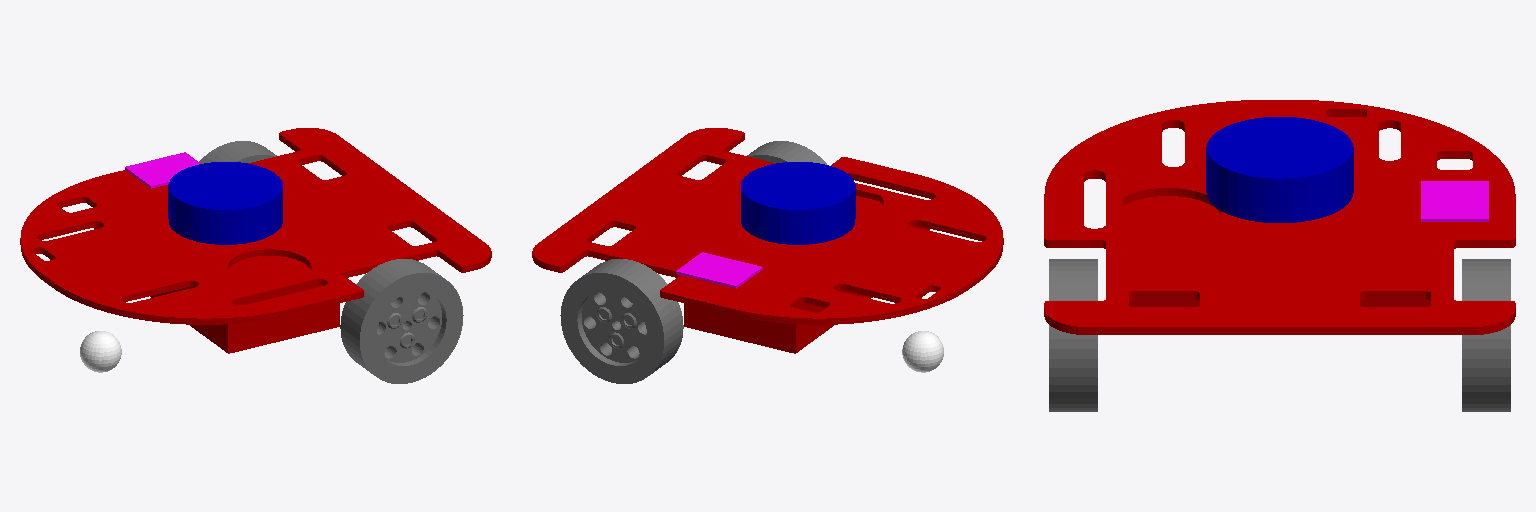
robot.urdf — caretta:
<?xml version="1.0" ?>
<robot name="caretta" xmlns:xacro="http://ros.org/wiki/xacro">

  <material name="blue">
    <color rgba="0.0 0.0 0.8 1.0"/>
  </material>
  <material name="grey">
    <color rgba="0.5 0.5 0.5 1.0"/>
  </material>
  <material name="red">
    <color rgba="0.8 0.0 0.0 1.0"/>
  </material>
  <material name="purple">
    <color rgba="1.0 0.02 1.0 1.0"/>
  </material>
  <material name="white">
    <color rgba="1.0 1.0 1.0 1.0"/>
  </material>

  <link name="base_footprint"/>

  <joint name="base_joint" type="fixed">
    <parent link="base_footprint"/>
    <child link="base_link"/>
    <origin xyz="0.0 0.0 0.03425" rpy="0 0 0"/>
  </joint>
  <link name="base_link">
    <visual>
      <origin xyz="0 0 0.028" rpy="0 0 0"/>
      <geometry>
        <mesh filename="package://rosrider_gazebo/models/common/meshes/caretta.stl" scale="0.001 0.001 0.001"/>
      </geometry>
      <material name="red"/>
    </visual>
    <collision>
      <origin xyz="0 0 0.028" rpy="0 0 0"/>
      <geometry>
        <mesh filename="package://rosrider_gazebo/models/common/meshes/caretta.stl" scale="0.001 0.001 0.001"/>
      </geometry>
    </collision>
    <inertial>
      <origin xyz="0 0 0" rpy="0 0 0"/>
      <mass value="2.2"/>
      <inertia ixx="0.005172767" ixy="-0.000021163" ixz="-0.000113099" iyy="0.003997965" iyz="-0.000022871" izz="0.008669583" />
    </inertial>
  </link>
  <joint name="wheel_left_joint" type="continuous">
    <parent link="base_link"/>
    <child link="wheel_left_link"/>
    <origin xyz="0.0 0.092 0.0" rpy="-1.57 0 0"/>
    <axis xyz="0 0 1"/>
  </joint>
  <link name="wheel_left_link">
    <visual>
      <origin xyz="0 0 0" rpy="1.57 0 0"/>
      <geometry>
        <mesh filename="package://rosrider_gazebo/models/common/meshes/wheel_left.stl" scale="0.001 0.001 0.001"/>
      </geometry>
      <material name="grey"/>
    </visual>
    <collision>
      <origin xyz="0 0 0" rpy="0 0 0"/>
      <geometry>
        <cylinder length="0.022" radius="0.03425"/>
      </geometry>
    </collision>
    <inertial>
      <mass value="0.06" />
      <inertia ixx="1.8158194e-03" ixy="-9.3392e-12" ixz="1.04909e-11"  iyy="3.2922126e-03" iyz="5.75694e-11" izz="1.8158194e-03" />
    </inertial>
  </link>

  <joint name="wheel_right_joint" type="continuous">
    <parent link="base_link"/>
    <child link="wheel_right_link"/>
    <origin xyz="0.0 -0.092 0.0" rpy="-1.57 0 0"/>
    <axis xyz="0 0 1"/>
  </joint>
  <link name="wheel_right_link">
    <visual>
      <origin xyz="0 0 0" rpy="1.57 0 0"/>
      <geometry>
        <mesh filename="package://rosrider_gazebo/models/common/meshes/wheel_right.stl" scale="0.001 0.001 0.001"/>
      </geometry>
      <material name="grey"/>
    </visual>
    <collision>
      <origin xyz="0 0 0" rpy="0 0 0"/>
      <geometry>
        <cylinder length="0.022" radius="0.03425"/>
      </geometry>
    </collision>
    <inertial>
      <mass value="0.06" />
      <inertia ixx="1.8158194e-03" ixy="-9.3392e-12" ixz="1.04909e-11"  iyy="3.2922126e-03" iyz="5.75694e-11" izz="1.8158194e-03" />
    </inertial>
  </link>

  <joint name="caster_back_joint" type="fixed">
    <parent link="base_link"/>
    <child link="caster_back_link"/>
    <origin xyz="-0.1454 0 -0.02225" rpy="0 0 0"/>
  </joint>
  <link name="caster_back_link">
    <visual>
      <geometry>
        <sphere radius="0.012"/>
      </geometry>
      <material name="white"/>
    </visual>
    <collision>
      <origin xyz="0 0 0" rpy="0 0 0"/>
      <geometry>
        <sphere radius="0.012"/>
      </geometry>
    </collision>
    <inertial>
      <origin xyz="0 0 0" />
      <mass value="0.1" />
      <inertia ixx="0.001" ixy="0.0" ixz="0.0"  iyy="0.001" iyz="0.0" izz="0.001" />
    </inertial>
  </link>

  <joint name="imu_joint" type="fixed">
    <parent link="base_link"/>
    <child link="imu_link"/>
    <origin xyz="-0.056 0.078 0.0396" rpy="0 0 0"/>
  </joint>
  <link name="imu_link">
    <visual>
      <origin xyz="0 0 0" rpy="0 0 0"/>
      <geometry>
        <box size="0.04 0.03 0.0016"/>
      </geometry>
      <material name="purple"/>
    </visual>
  </link>

  <joint name="scan_joint" type="fixed">
    <parent link="base_link"/>
    <child link="base_scan"/>
    <origin xyz="-0.063 0 0.052" rpy="0 0 0"/>
  </joint>
  <link name="base_scan">
    <visual>
      <origin xyz="0 0 0.0" rpy="0 0 0"/>
      <geometry>
        <cylinder length="0.022" radius="0.0328"/>
      </geometry>
      <material name="blue"/>
    </visual>
    <collision>
      <origin xyz="0 0 0.0" rpy="0 0 0"/>
      <geometry>
        <cylinder length="0.022" radius="0.0328"/>
      </geometry>
    </collision>
    <inertial>
      <mass value="0.2" />
      <origin xyz="0 0 0" />
      <inertia ixx="0.001" ixy="0.0" ixz="0.0"  iyy="0.001" iyz="0.0" izz="0.001" />
    </inertial>
  </link>

</robot>

--- What the picture shows (computed from the rendered views, not written in the file) ---
Views: 3 orthographic renders of the robot side by side, from view 1: azimuth 30°, elevation 25°; view 2: azimuth 150°, elevation 25°; view 3: azimuth 270°, elevation 25°.
Model caretta with 7 links and 6 joints (2 continuous, 4 fixed), rooted at base_footprint, posed all joints at 0.
Links seen in each view (by area): view 1: base_link, wheel_right_link, base_scan, caster_back_link, imu_link, wheel_left_link; view 2: base_link, wheel_left_link, base_scan, imu_link, caster_back_link, wheel_right_link; view 3: base_link, base_scan, wheel_left_link, wheel_right_link, imu_link.
Link boxes in pixels (bbox=[...]): base_link: bbox=[20, 128, 491, 353]; wheel_right_link: bbox=[340, 259, 463, 383]; base_scan: bbox=[168, 162, 282, 244]; caster_back_link: bbox=[80, 331, 121, 372]; imu_link: bbox=[125, 152, 200, 188]; wheel_left_link: bbox=[199, 141, 276, 163]; base_link: bbox=[532, 128, 1003, 353]; wheel_left_link: bbox=[560, 259, 683, 383]; base_scan: bbox=[741, 162, 855, 244]; imu_link: bbox=[676, 252, 762, 288]; caster_back_link: bbox=[902, 331, 943, 372]; wheel_right_link: bbox=[747, 141, 826, 164]; base_link: bbox=[1044, 100, 1515, 334]; base_scan: bbox=[1206, 117, 1353, 222]; wheel_left_link: bbox=[1462, 259, 1510, 411]; wheel_right_link: bbox=[1049, 259, 1097, 411]; imu_link: bbox=[1421, 181, 1488, 221].
Bounding box of the posed robot: 0.24 × 0.21 × 0.0972 m (x, y, z).
3 mesh visuals loaded from 3 distinct referenced files (3 binary STL).